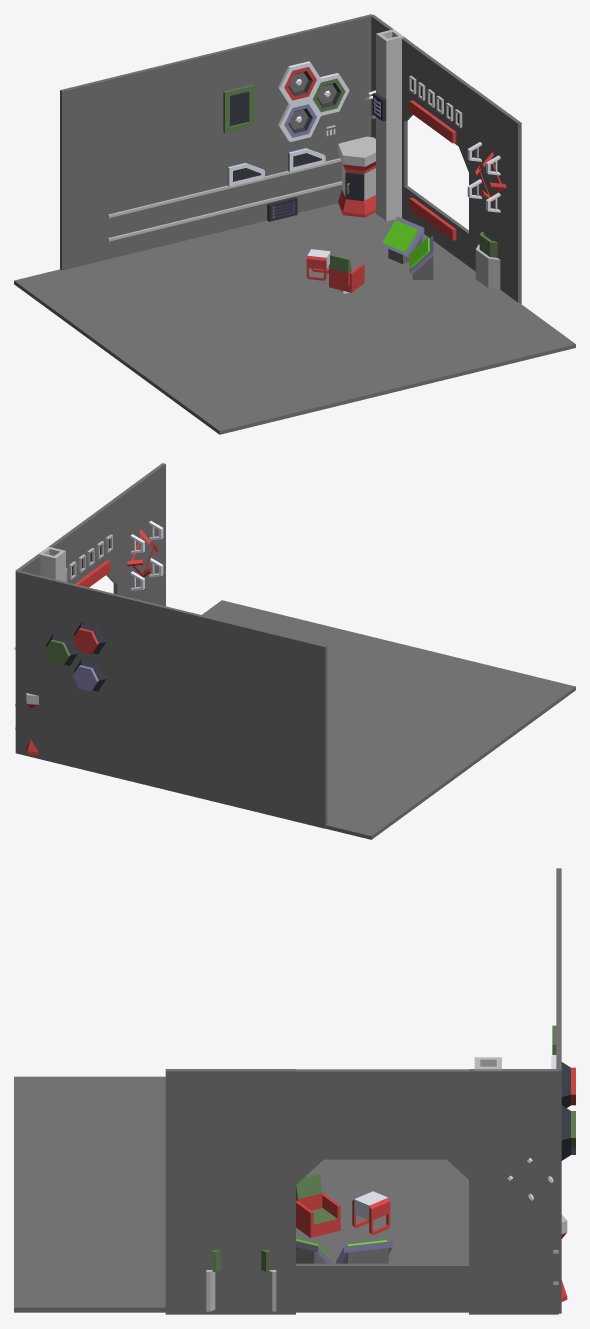
Rendered from SpaceShip_test1.glb.
3 renders of one model, top to bottom at view 1: azimuth 30°, elevation 25°; view 2: azimuth 150°, elevation 25°; view 3: azimuth 270°, elevation 25°, orthographic. The views are drawn at different scales.
Parts seen in each view (by area): view 1: roof_flatCenter (×8), block_tube, columns_large (×2), engine_turbine (×3), hexagon_overhang, window_small, engine_flat (×2), hexagon_base, wall_cornerEdge, hull_cargoLower, panel_ventCover%, wing (+1 smaller); view 2: roof_flatCenter (×5), engine_turbine (×3), block_tube; view 3: roof_flatCenter (×8), roof_half (×2), roof_flatStraight, engine_turbine (×2), hull_cargoLower, wing, wall_cornerEdge.
Boxes of the visible parts, x1,y1,x2,y2 form: roof_flatCenter (×8): (14,14,575,434); block_tube: (376,29,404,221); columns_large (×2): (107,100,456,241); engine_turbine (×3): (278,61,349,141); hexagon_overhang: (338,136,375,185); window_small: (223,84,254,132); engine_flat (×2): (227,148,325,186); hexagon_base: (338,175,375,217); wall_cornerEdge: (475,244,500,289); hull_cargoLower: (306,249,331,280); panel_ventCover%: (267,197,297,221); wing: (330,254,351,285); roof_flatCenter (×5): (15,463,575,839); engine_turbine (×3): (44,621,105,691); block_tube: (38,546,65,581); roof_flatCenter (×8): (14,868,561,1314); roof_half (×2): (296,1241,392,1263); roof_flatStraight: (296,1193,340,1237); engine_turbine (×2): (551,1055,575,1154); hull_cargoLower: (352,1191,390,1235); wing: (296,1173,322,1210); wall_cornerEdge: (206,1270,276,1311).
Size of the model in its own units: 10.18 by 4.99 by 10.27.
